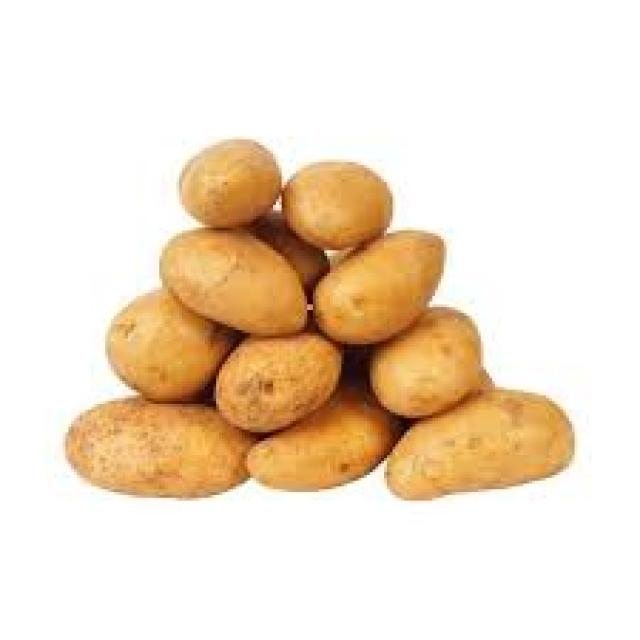Potato: (142, 228, 328, 357), (63, 392, 259, 509)
